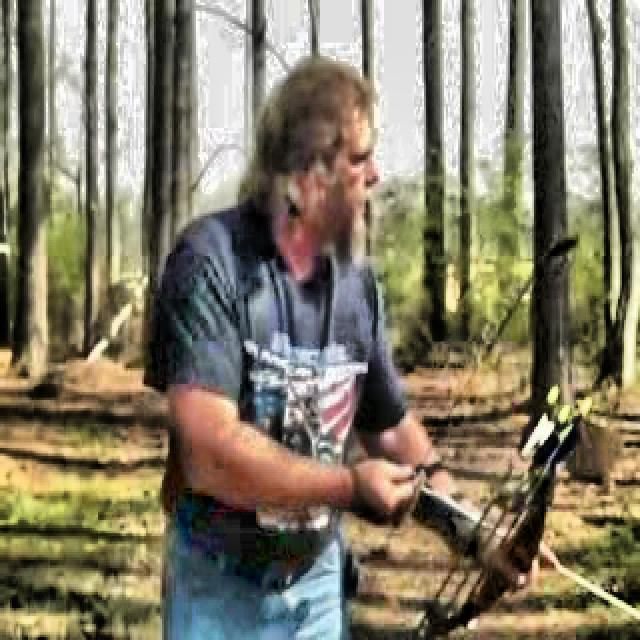I: (154, 37, 556, 595)
